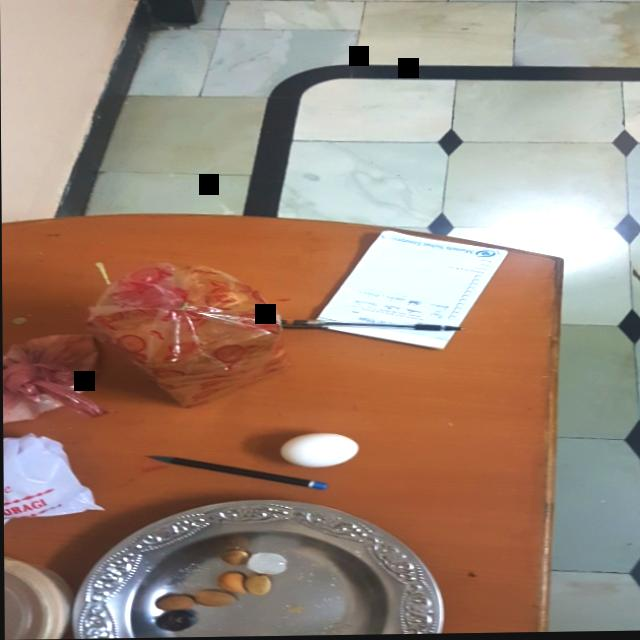eggs: (278, 431, 360, 468)
